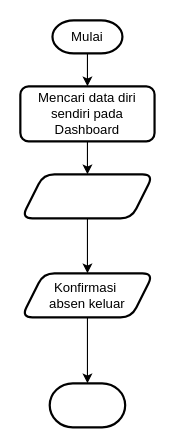
The diagram is 174 pixels wide and 447 high, and some of its shapes have lost their labels. Here are the shapes that lost their labels. From the top down, the centre of each, then its label:
(x=87, y=196): Klik data diri
(x=87, y=405): Selesai
